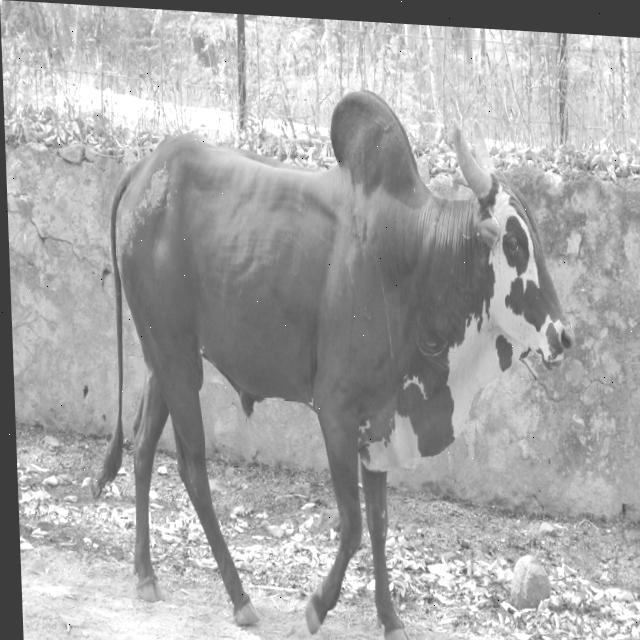Cow: (75, 70, 587, 640)
